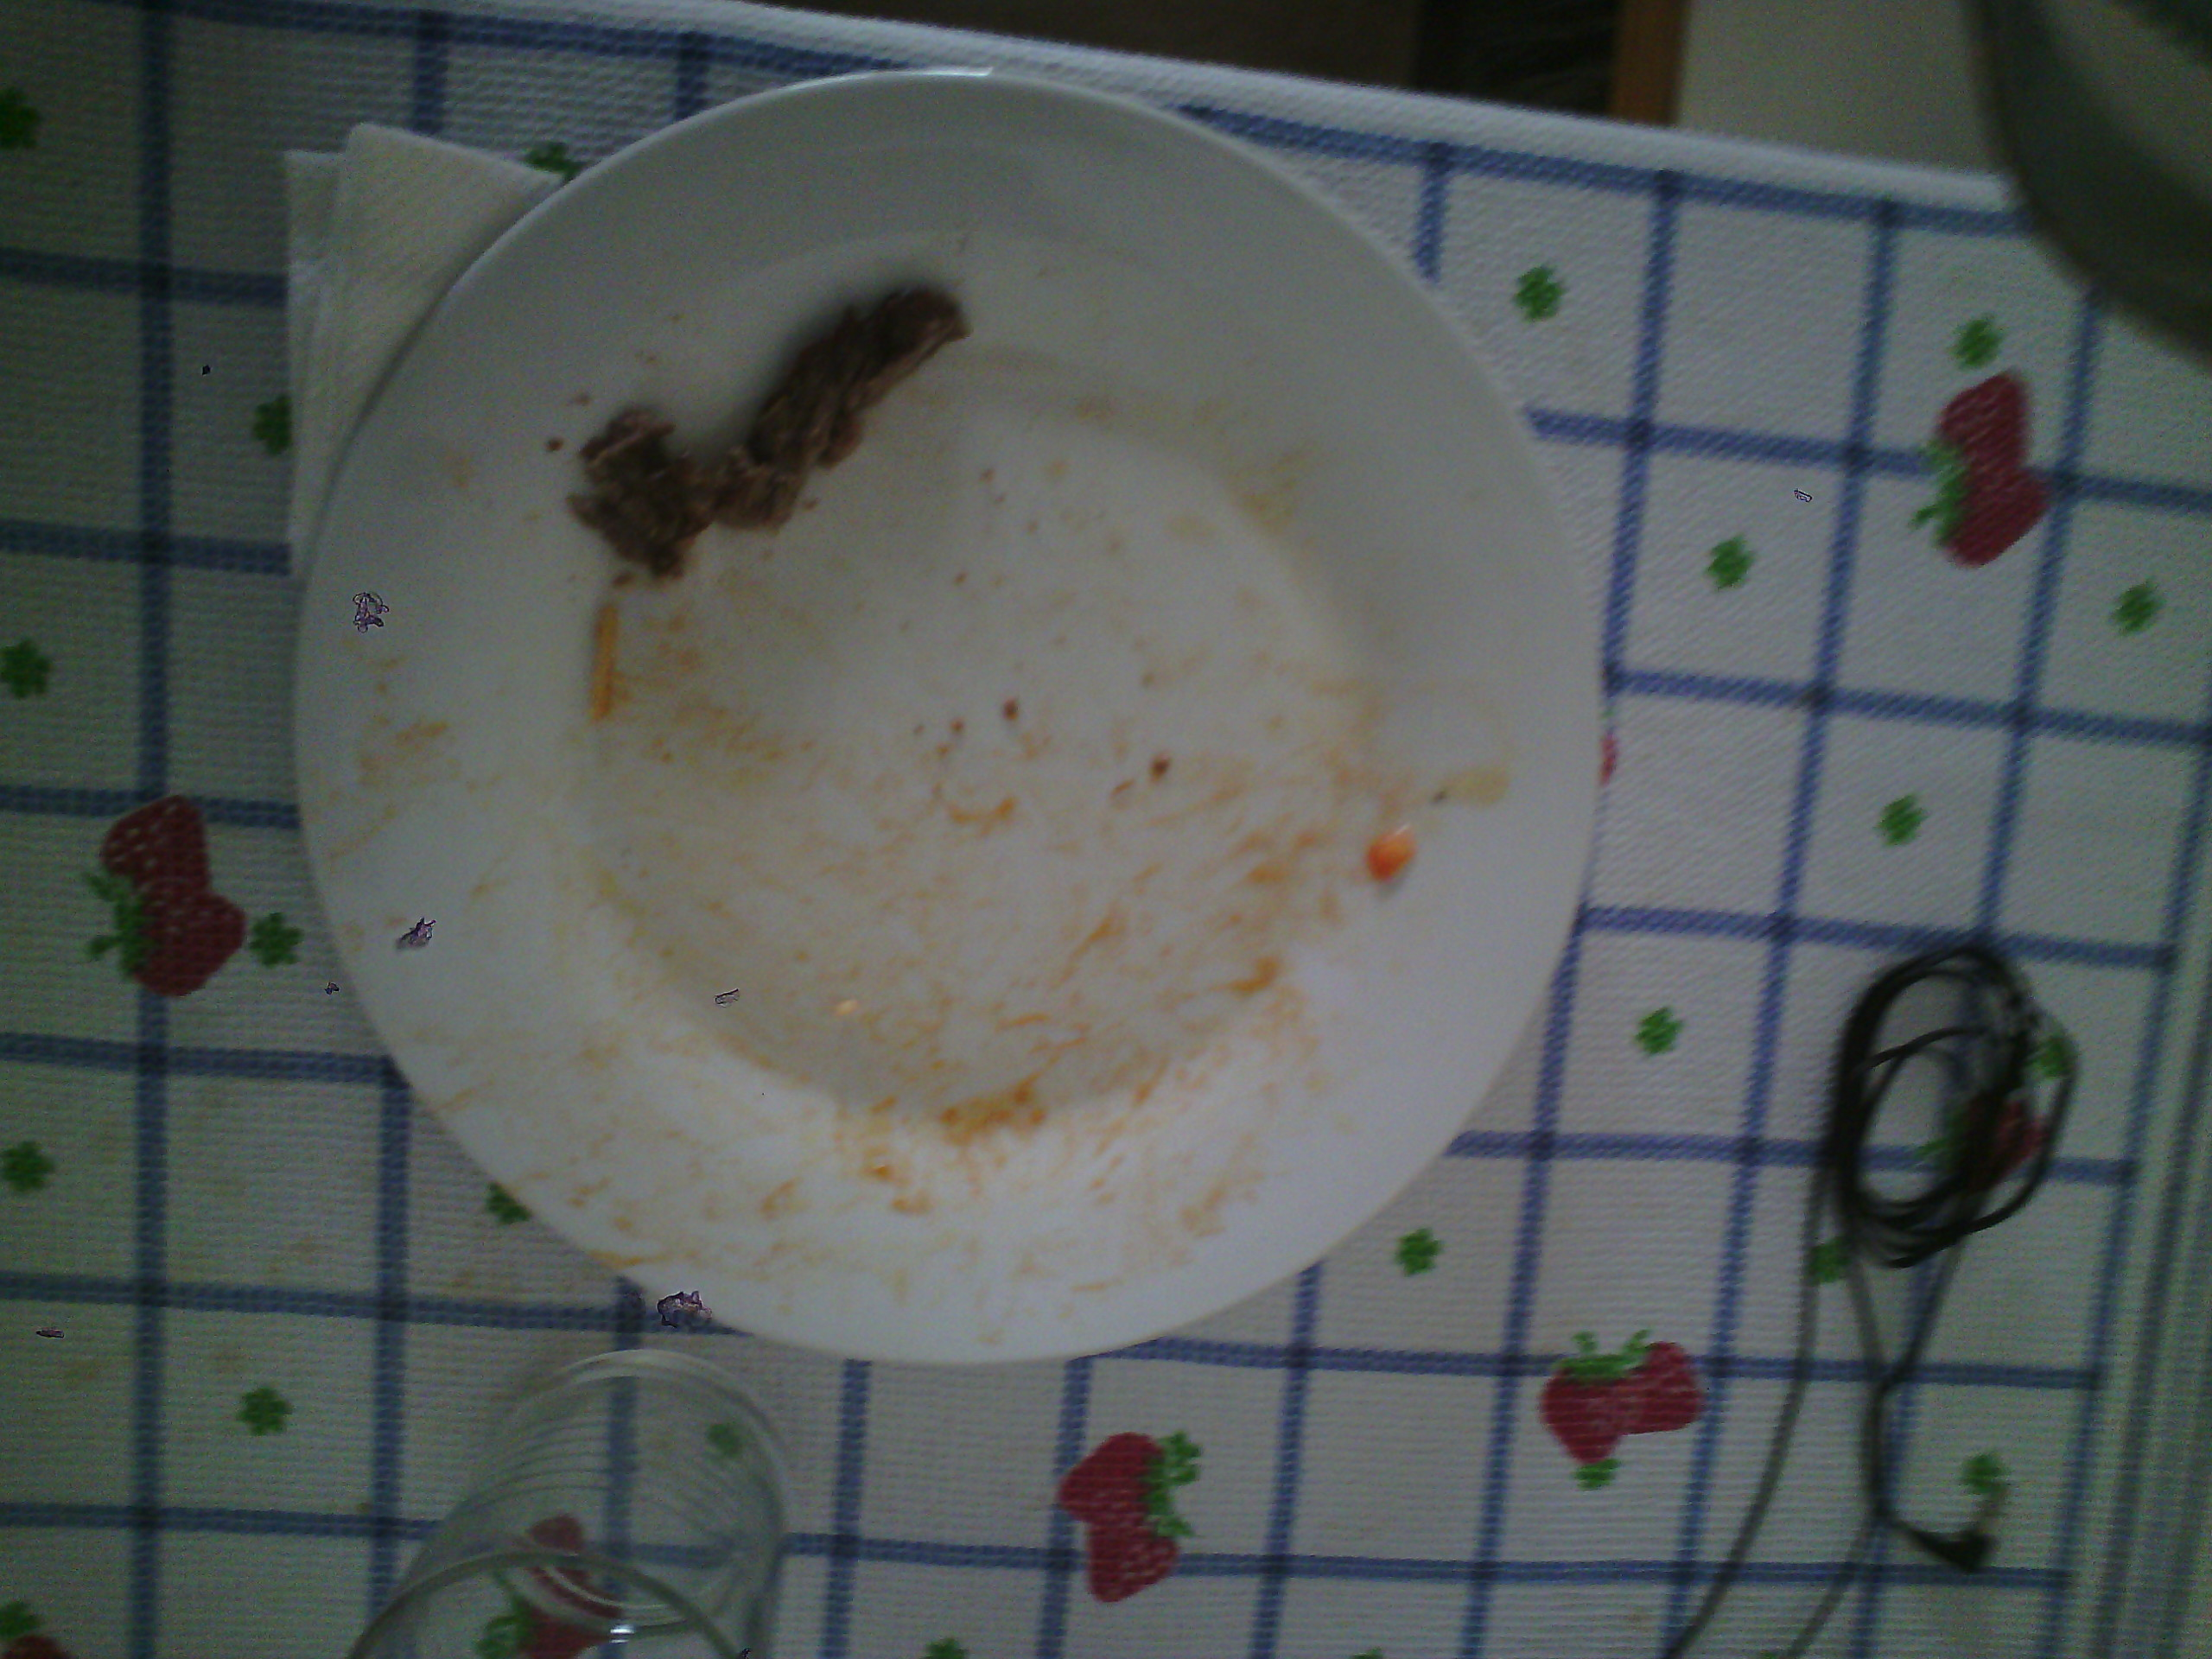0-20: (289, 73, 1597, 1382)
